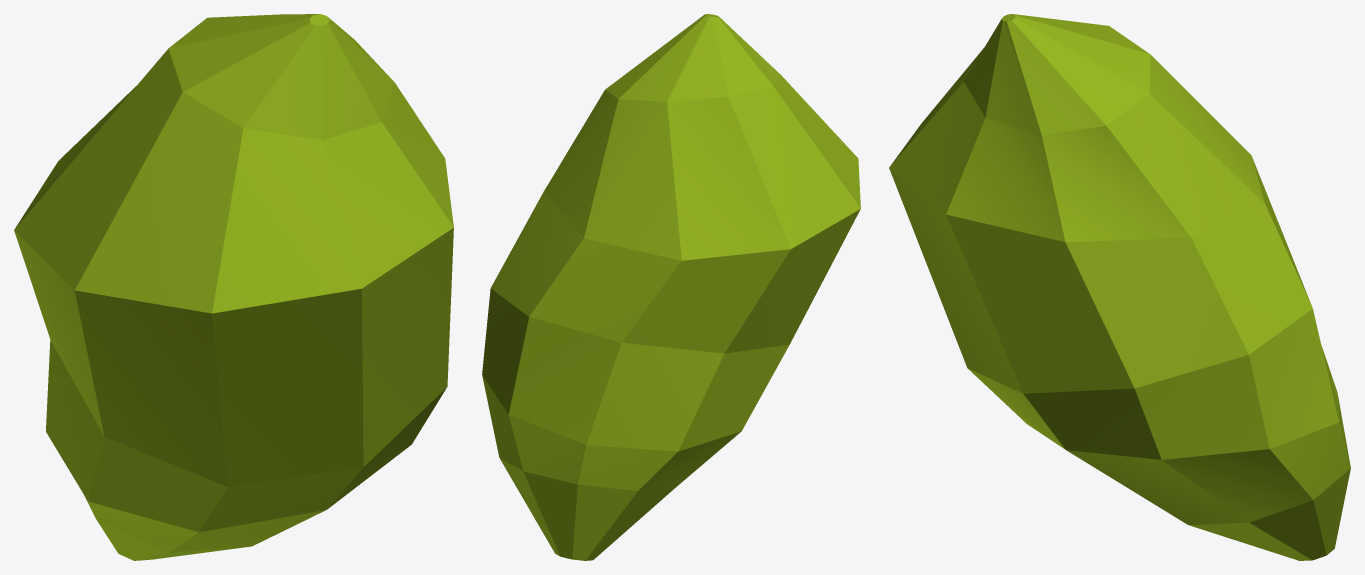
File: Vegetation_Modular_Tree_Foliage_Clump_Small_11.fbx
The picture shows the model from 3 angles, left to right: view 1: azimuth 30°, elevation 25°; view 2: azimuth 150°, elevation 25°; view 3: azimuth 270°, elevation 25°; orthographic projection. The views are drawn at different scales.
Parts seen in each view (by area): view 1: Vegetation_Modular_Tree_Foliage_Clump_Small_11; view 2: Vegetation_Modular_Tree_Foliage_Clump_Small_11; view 3: Vegetation_Modular_Tree_Foliage_Clump_Small_11.
Boxes of the visible parts, <box> form: Vegetation_Modular_Tree_Foliage_Clump_Small_11: <box>14,14,453,560</box>; Vegetation_Modular_Tree_Foliage_Clump_Small_11: <box>482,14,860,560</box>; Vegetation_Modular_Tree_Foliage_Clump_Small_11: <box>889,14,1350,560</box>.
Bounding box in the file's own units: 40.81 × 60.78 × 47.45.
